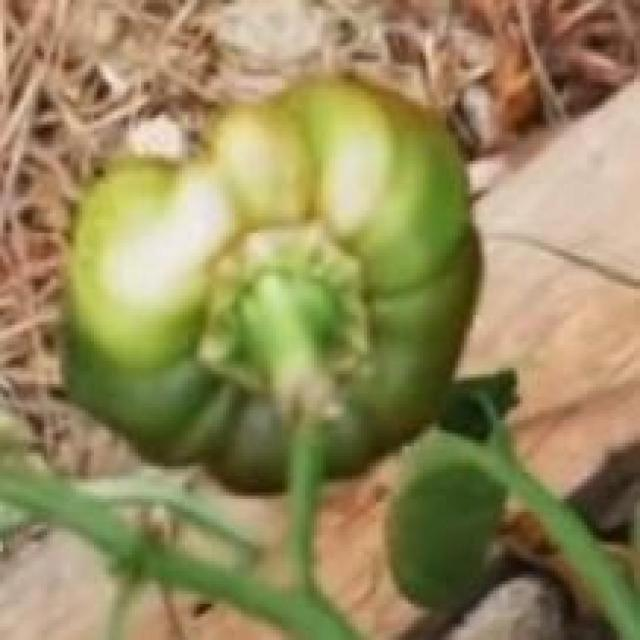Sunscald Fruit: (63, 73, 263, 200)
